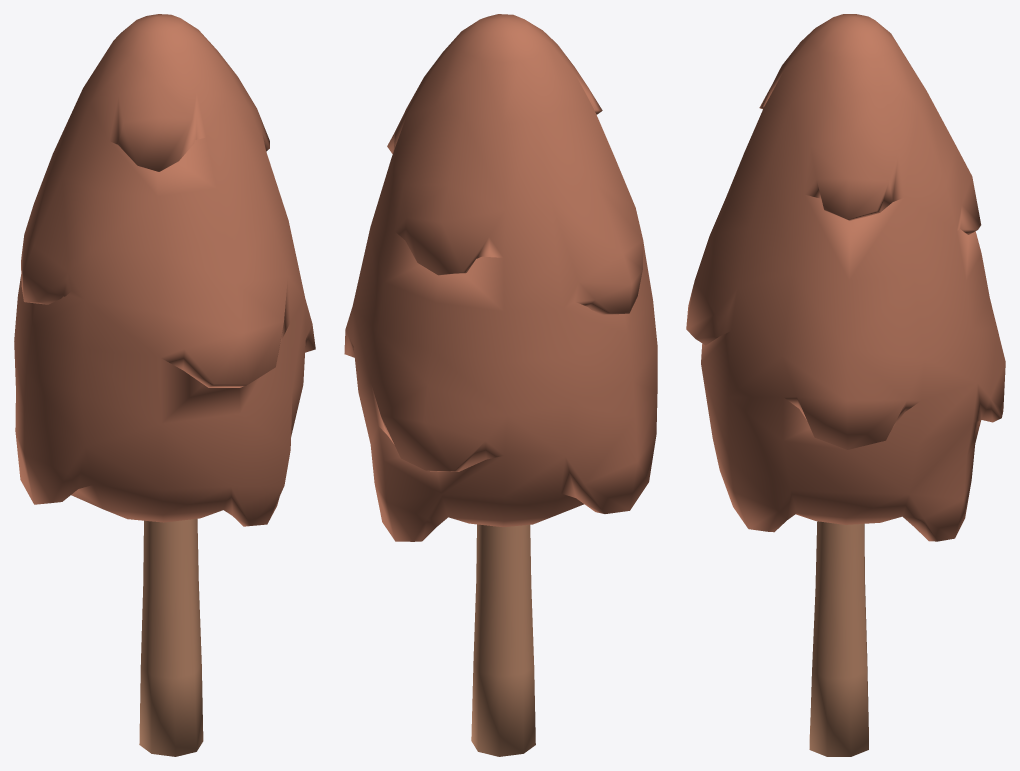
The model's file is Tree_F_02_LOD2.gltf.
The picture shows the model from 3 angles, left to right: view 1: azimuth 30°, elevation 25°; view 2: azimuth 150°, elevation 25°; view 3: azimuth 270°, elevation 25°; orthographic projection.
Parts seen in each view (by area): view 1: Tree_F_02_LOD2_Cylinder.596; view 2: Tree_F_02_LOD2_Cylinder.596; view 3: Tree_F_02_LOD2_Cylinder.596.
Part boxes in pixels (box(x1,y1,x2,y2)): Tree_F_02_LOD2_Cylinder.596: box(14, 14, 315, 756); Tree_F_02_LOD2_Cylinder.596: box(344, 14, 657, 756); Tree_F_02_LOD2_Cylinder.596: box(686, 14, 1005, 756).
Bounding box in the file's own units: 5.63 × 14.1 × 5.61.
Materials: 1 (1 with a texture image).
